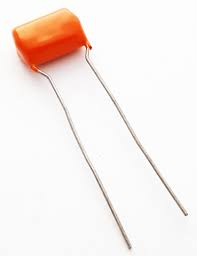ceramic capacitor: (3, 4, 102, 98)
